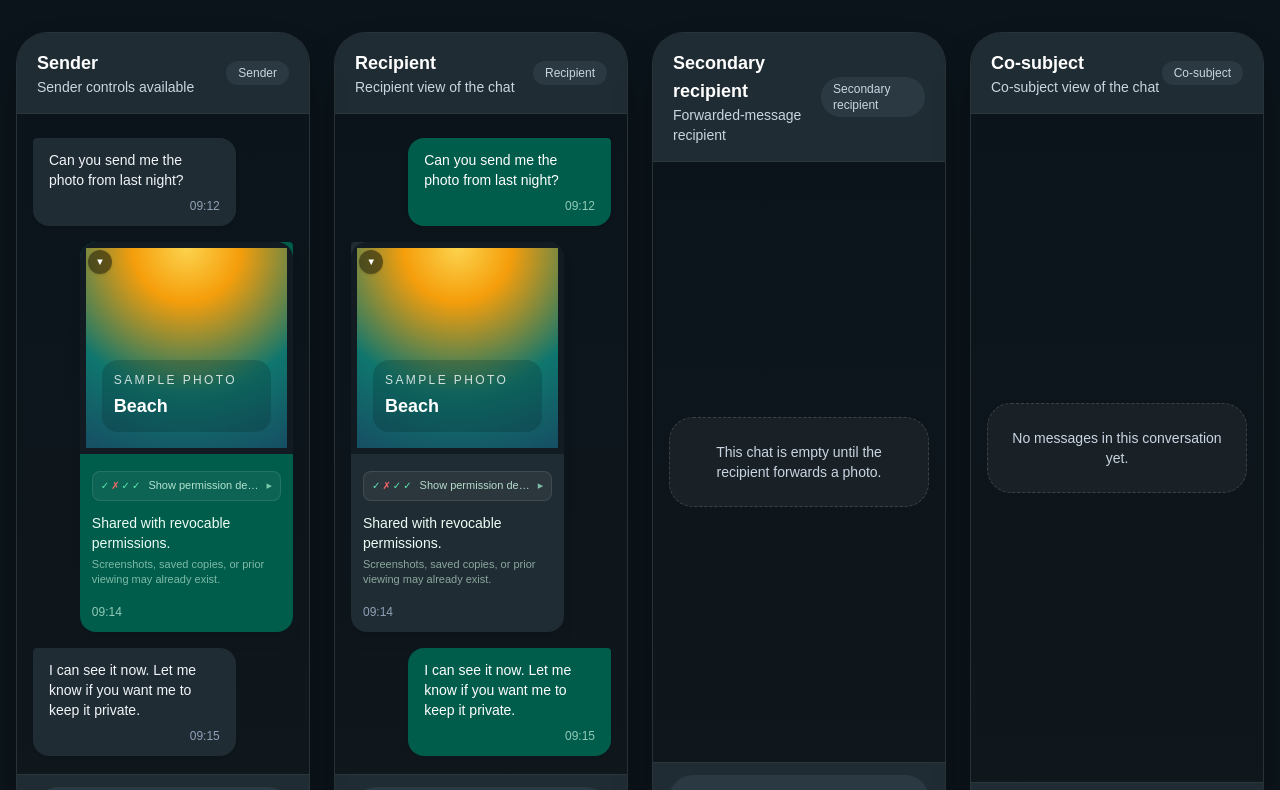
Test: PhotoRevocationDemo › switches the recipient handset subtitle when the shared photo is revoked
Expected: the text "Recipient view of the chat" is shown, top-left (355, 77), bottom-right (514, 97)
Expected: the text "Sender controls available" is shown, top-left (37, 79), bottom-right (194, 95)
Click the button named "Open photo options" at x=100, y=262, box top-left (88, 250), bottom-right (112, 274)
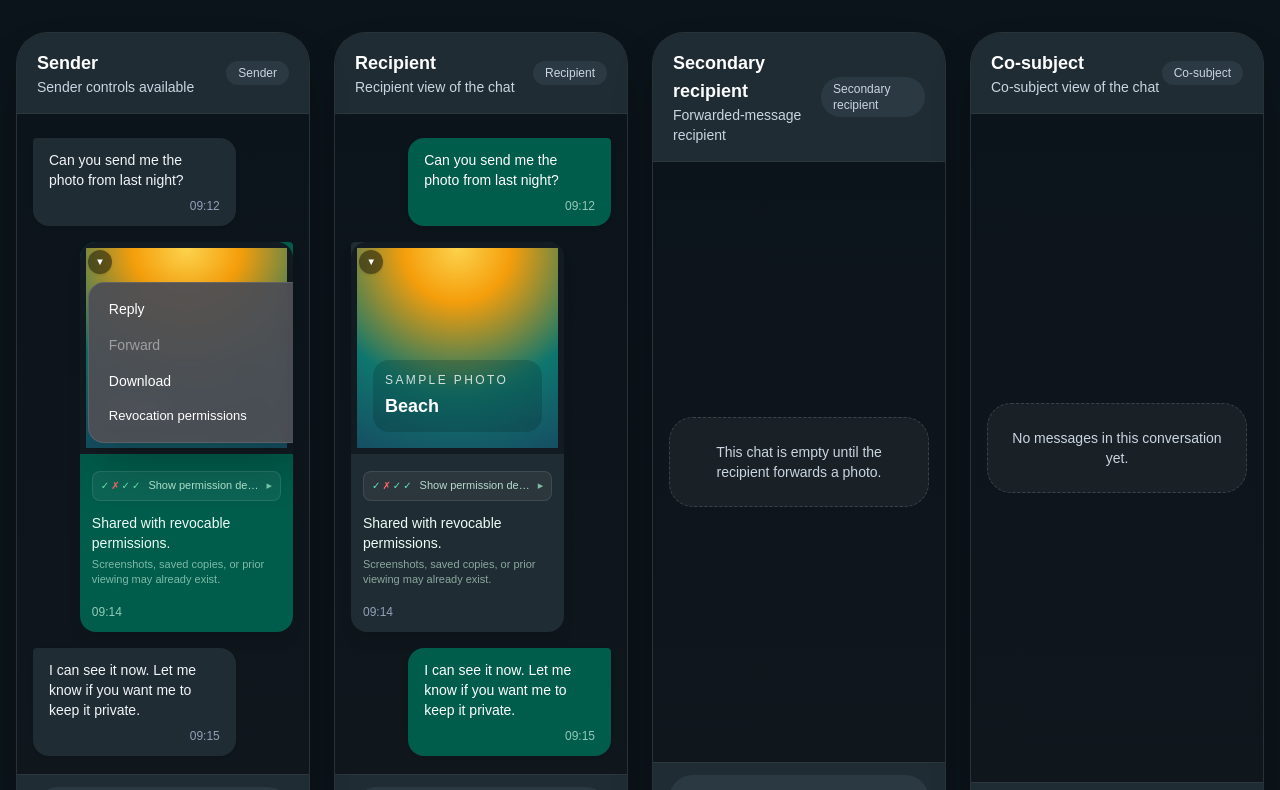
Click the button "Revocation permissions" at x=200, y=416, box top-left (97, 399), bottom-right (303, 434)
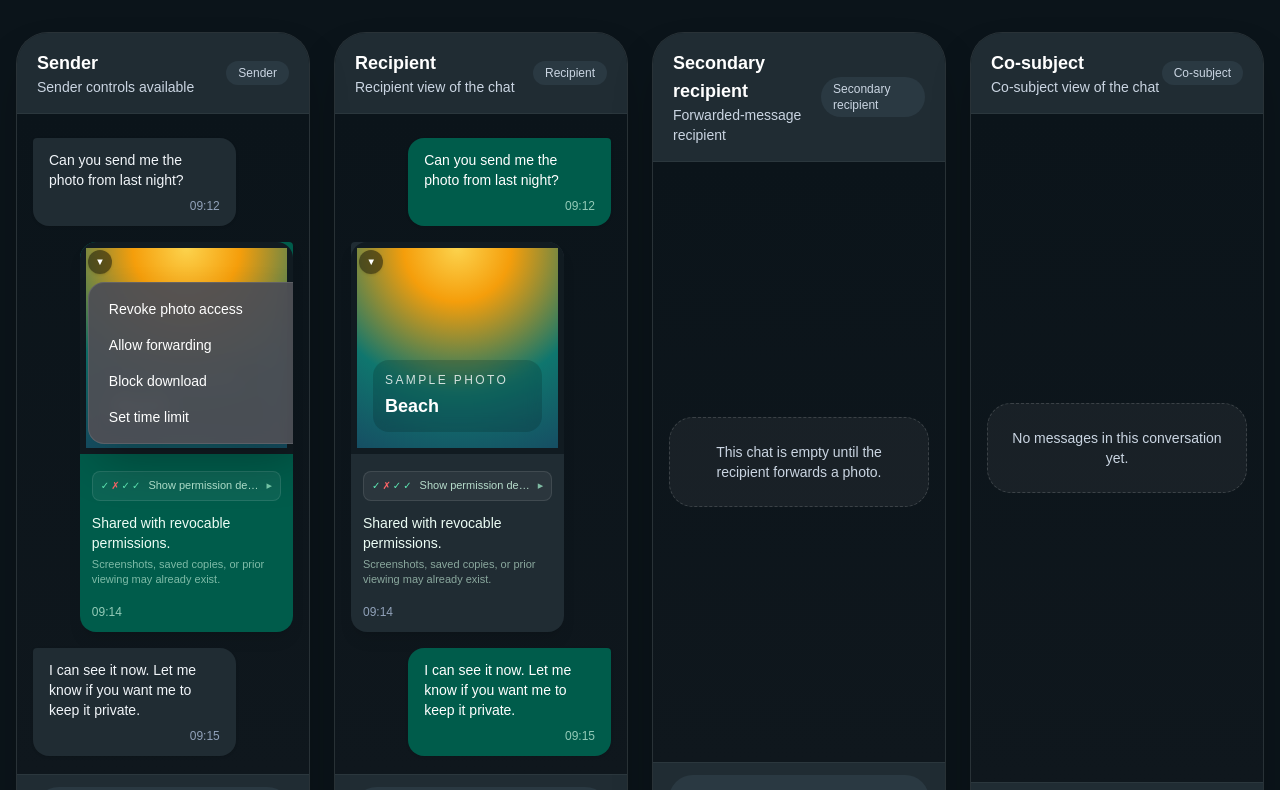
Click the button "Revoke photo access" at x=200, y=309, box top-left (97, 291), bottom-right (303, 327)
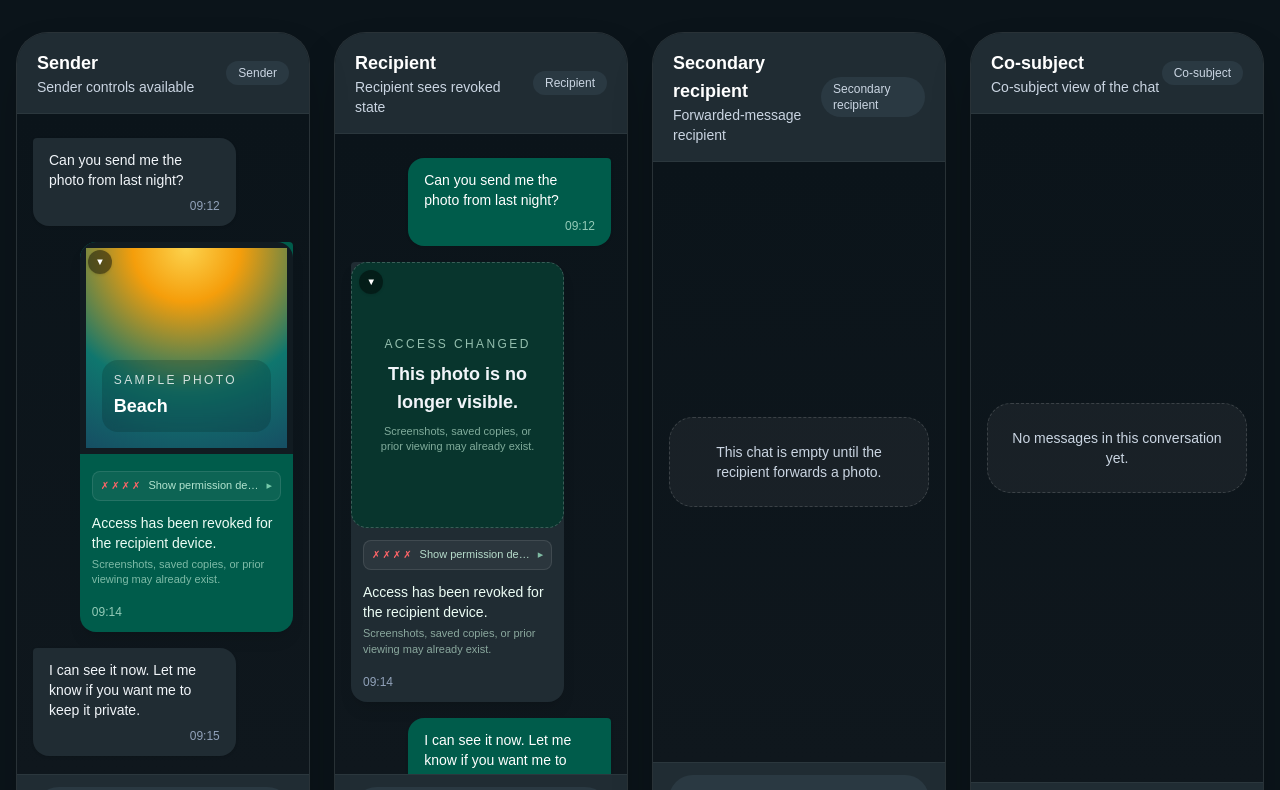
Now the text "Recipient sees revoked state" is shown, box top-left (355, 79), bottom-right (500, 115)
